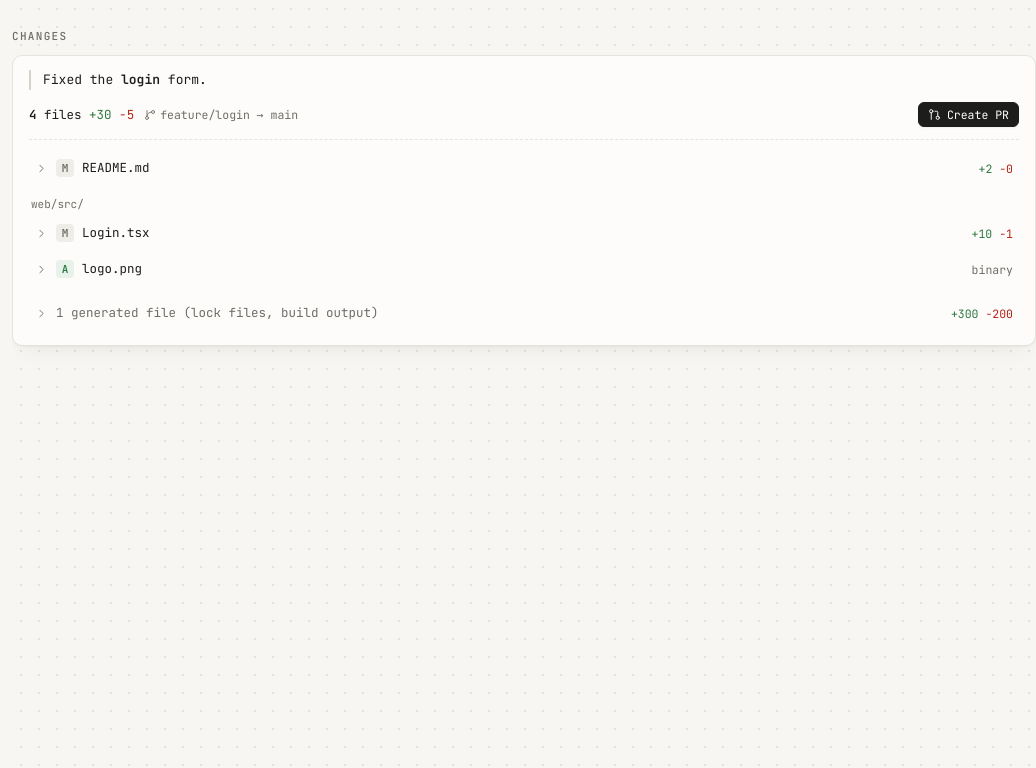
Scenario: Changes › loads one file's diff when it is tapped
Click the button "M Login.tsx +10 −1".
click(116, 233)  # box [29, 216, 1019, 252]
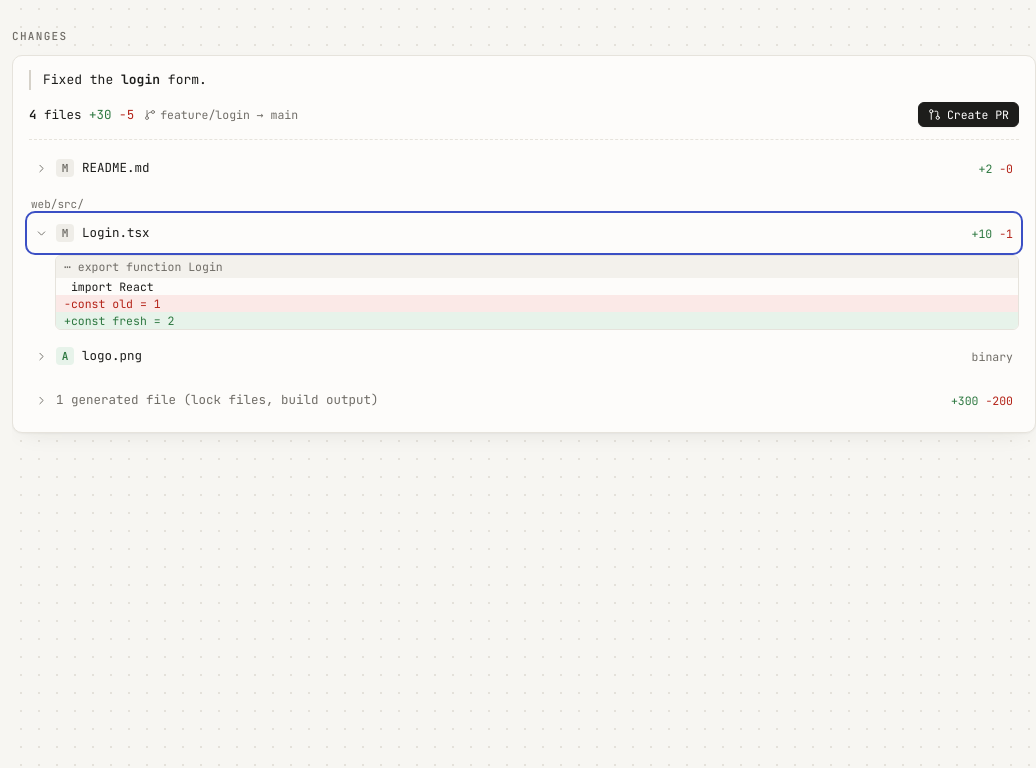
Expected: the text "+const fresh = 2" is shown, [56, 312, 1018, 330]
Expected: the text "-const old = 1" is shown, [56, 295, 1018, 312]
Expected: the text "⋯ export function Login" is shown, [56, 256, 1018, 278]
Click the button "M Login.tsx +10 −1".
click(116, 233)  # box [29, 216, 1019, 252]
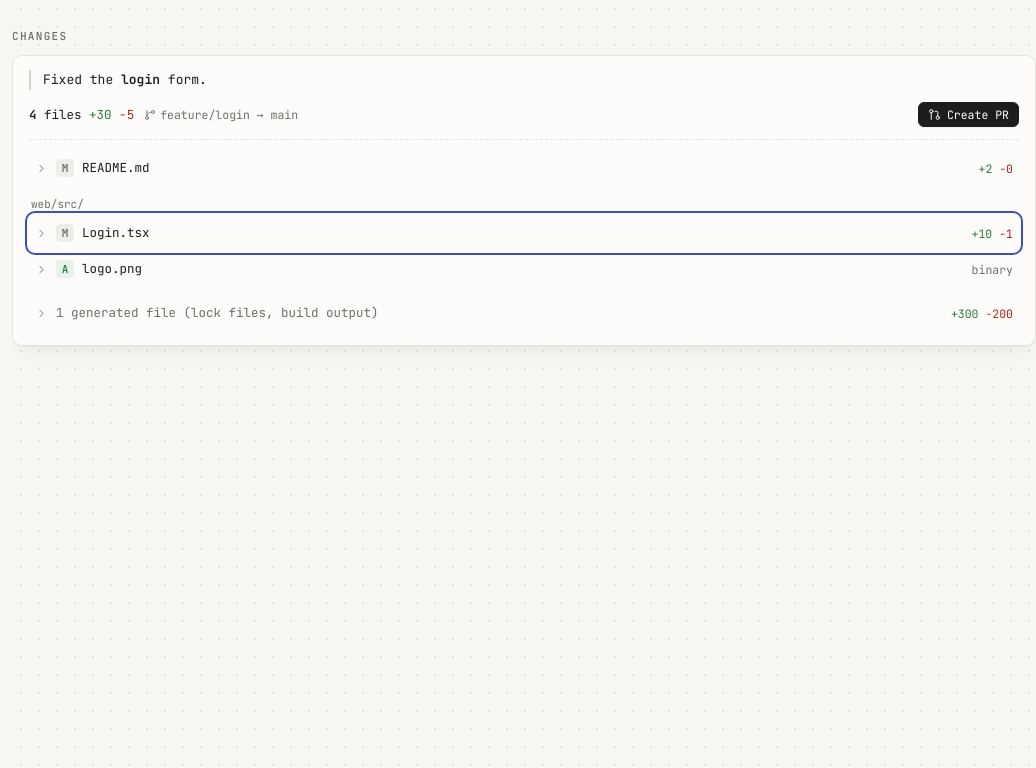
Expected: the text "+const fresh = 2" is gone
